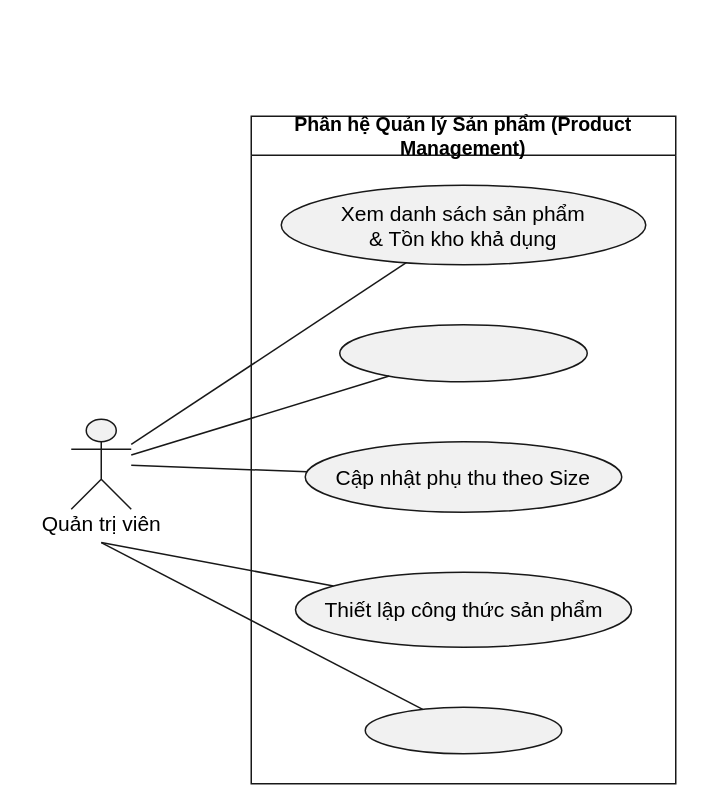
The diagram is 702 pixels wide and 810 high, and some of its shapes have lost their labels. Each missing label, with the centre of its shape:
"Thêm sản phẩm mới" belongs at pixel 462 352.
"Xóa sản phẩm" belongs at pixel 463 730.
